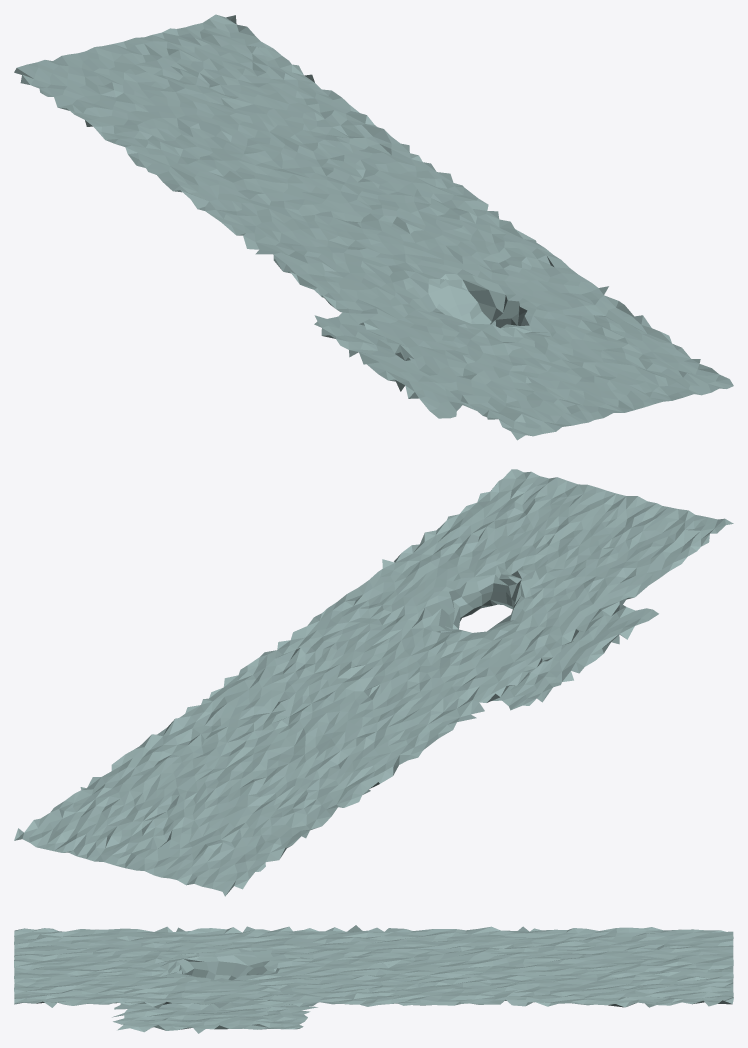
File: Cave_Hole_Floor.fbx
3 views of the same model, one above another, from view 1: azimuth 30°, elevation 25°; view 2: azimuth 150°, elevation 25°; view 3: azimuth 270°, elevation 25° (orthographic). The views are drawn at different scales.
Visible parts, largest first — view 1: Cave_Hole_Floor; view 2: Cave_Hole_Floor; view 3: Cave_Hole_Floor.
Boxes of the visible parts, x1,y1,x2,y2 form: Cave_Hole_Floor: (14,14,733,440); Cave_Hole_Floor: (14,469,733,896); Cave_Hole_Floor: (14,925,733,1033).
Size of the model in its own units: 52132 by 9856 by 200225.
